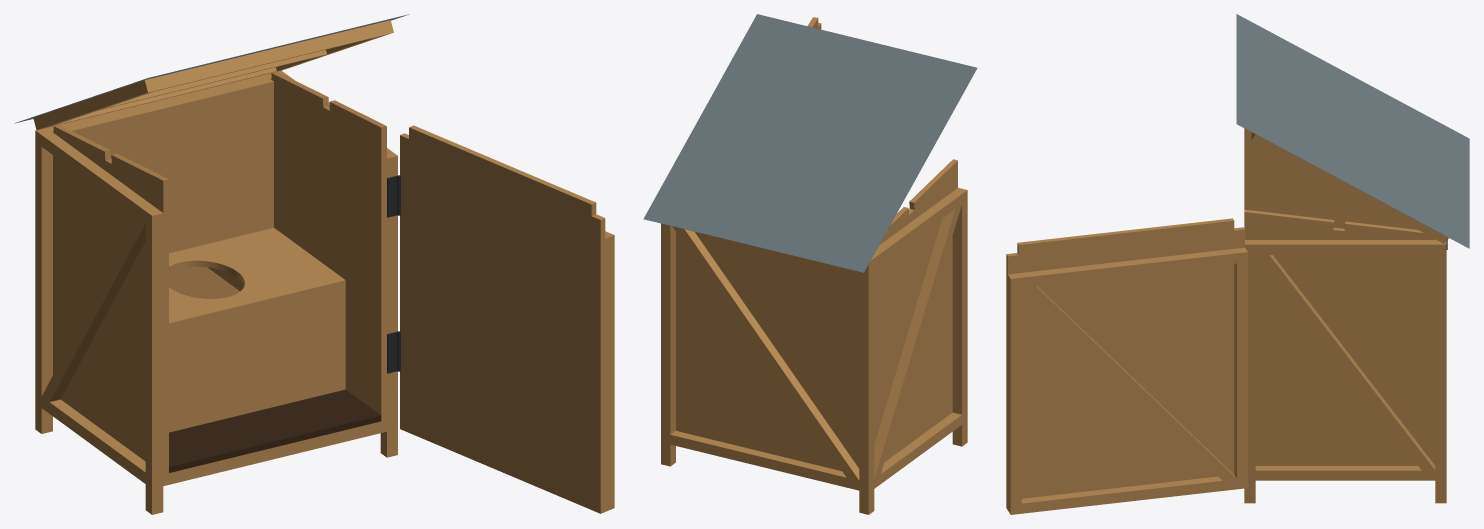
Rendered from dass-open.glb.
3 views of the same model, side by side, from view 1: azimuth 30°, elevation 25°; view 2: azimuth 150°, elevation 25°; view 3: azimuth 270°, elevation 25° (orthographic). The views are drawn at different scales.
Visible parts, largest first — view 1: door_panel, right_wall, left_wall, back_wall, seat_front, seat_top, floor, front_post_left, back_post_left, left_brace, roof_front, door_left (+9 smaller); view 2: roof, back_wall, left_wall, back_brace, left_brace, back_post_left, front_post_left, back_post_right, back_bottom, left_top, left_bottom, right_wall; view 3: door_panel, right_wall, roof, left_wall, right_brace, door_brace, door_top, door_left, door_bottom, door_right, back_post_right, right_top (+3 smaller).
Boxes of the visible parts, left/top/right/bottom form: door_panel: left=400, top=125, right=605, bottom=513; right_wall: left=270, top=71, right=386, bottom=421; left_wall: left=53, top=125, right=168, bottom=474; back_wall: left=67, top=79, right=273, bottom=298; seat_front: left=169, top=286, right=345, bottom=432; seat_top: left=169, top=228, right=345, bottom=329; floor: left=169, top=389, right=381, bottom=472; front_post_left: left=145, top=208, right=163, bottom=514; back_post_left: left=35, top=128, right=52, bottom=433; left_brace: left=42, top=217, right=145, bottom=401; roof_front: left=139, top=20, right=393, bottom=94; door_left: left=605, top=231, right=614, bottom=511; roof: left=643, top=14, right=977, bottom=272; back_wall: left=680, top=232, right=859, bottom=470; left_wall: left=874, top=159, right=957, bottom=461; back_brace: left=672, top=226, right=859, bottom=480; left_brace: left=874, top=204, right=961, bottom=478; back_post_left: left=859, top=258, right=874, bottom=514; front_post_left: left=952, top=188, right=967, bottom=446; back_post_right: left=661, top=223, right=675, bottom=466; back_bottom: left=670, top=431, right=859, bottom=490; left_top: left=872, top=192, right=961, bottom=267; left_bottom: left=874, top=412, right=961, bottom=488; right_wall: left=676, top=232, right=680, bottom=431; door_panel: left=1006, top=218, right=1244, bottom=509; right_wall: left=1244, top=209, right=1435, bottom=465; roof: left=1236, top=14, right=1469, bottom=248; left_wall: left=1244, top=128, right=1417, bottom=229; right_brace: left=1256, top=255, right=1435, bottom=470; door_brace: left=1022, top=286, right=1236, bottom=480; door_top: left=1019, top=249, right=1236, bottom=287; door_left: left=1008, top=273, right=1021, bottom=514; door_bottom: left=1021, top=476, right=1236, bottom=513; door_right: left=1234, top=247, right=1247, bottom=489; back_post_right: left=1435, top=240, right=1446, bottom=503; right_top: left=1255, top=240, right=1435, bottom=254.
Size of the model in its own units: 1347 by 1701 by 1868.
